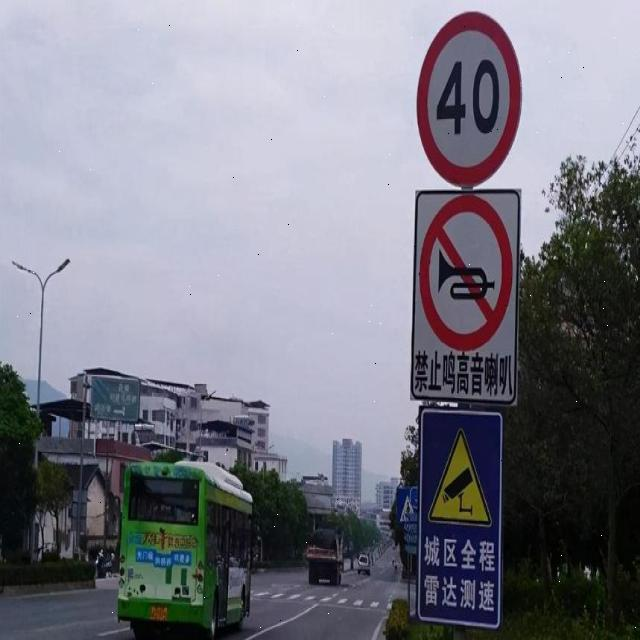speed limit 40: (417, 12, 523, 189)
